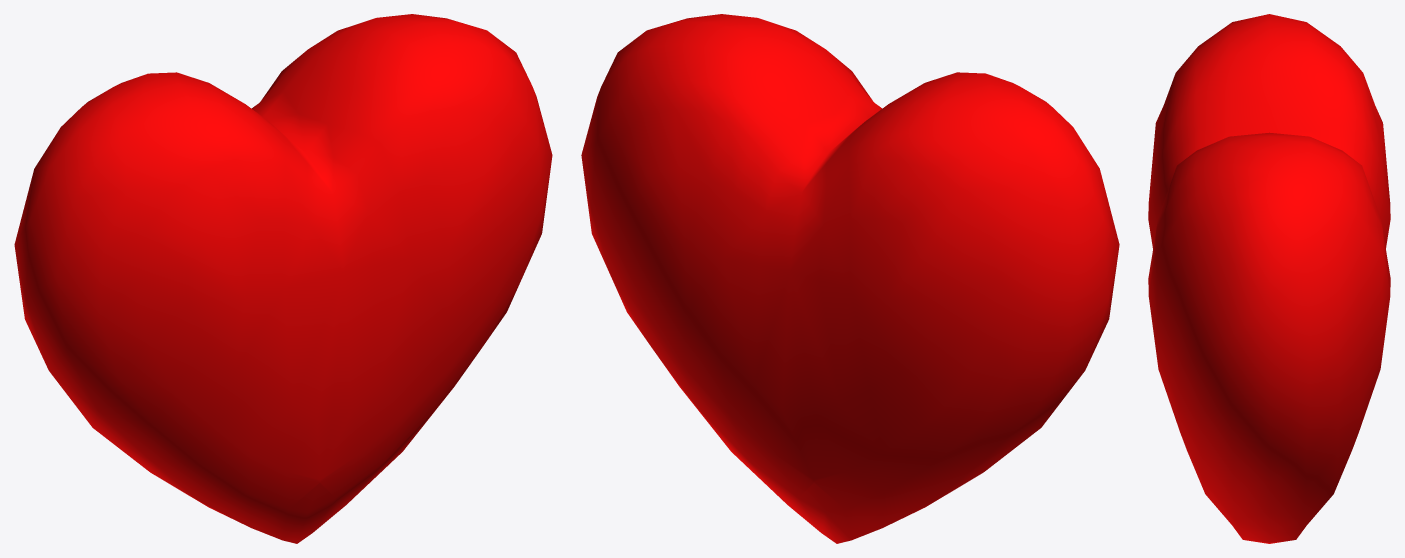
The model's file is Heart.FBX.
3 renders of one model, left to right at view 1: azimuth 30°, elevation 25°; view 2: azimuth 150°, elevation 25°; view 3: azimuth 270°, elevation 25°, orthographic. The views are drawn at different scales.
Visible parts, largest first — view 1: Heart; view 2: Heart; view 3: Heart.
Part boxes in pixels (x1,y1,x2,y2): Heart: [14, 14, 552, 543]; Heart: [581, 14, 1119, 543]; Heart: [1148, 14, 1390, 543].
Size of the model in its own units: 98.49 by 42.25 by 87.76.
